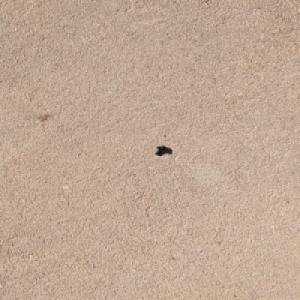BoltWasher: (153, 145, 168, 155)
